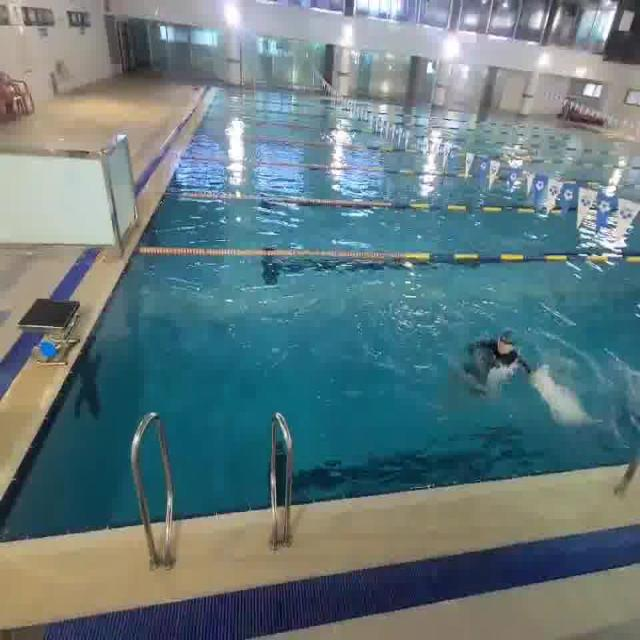Drowning: (463, 319, 541, 396)
